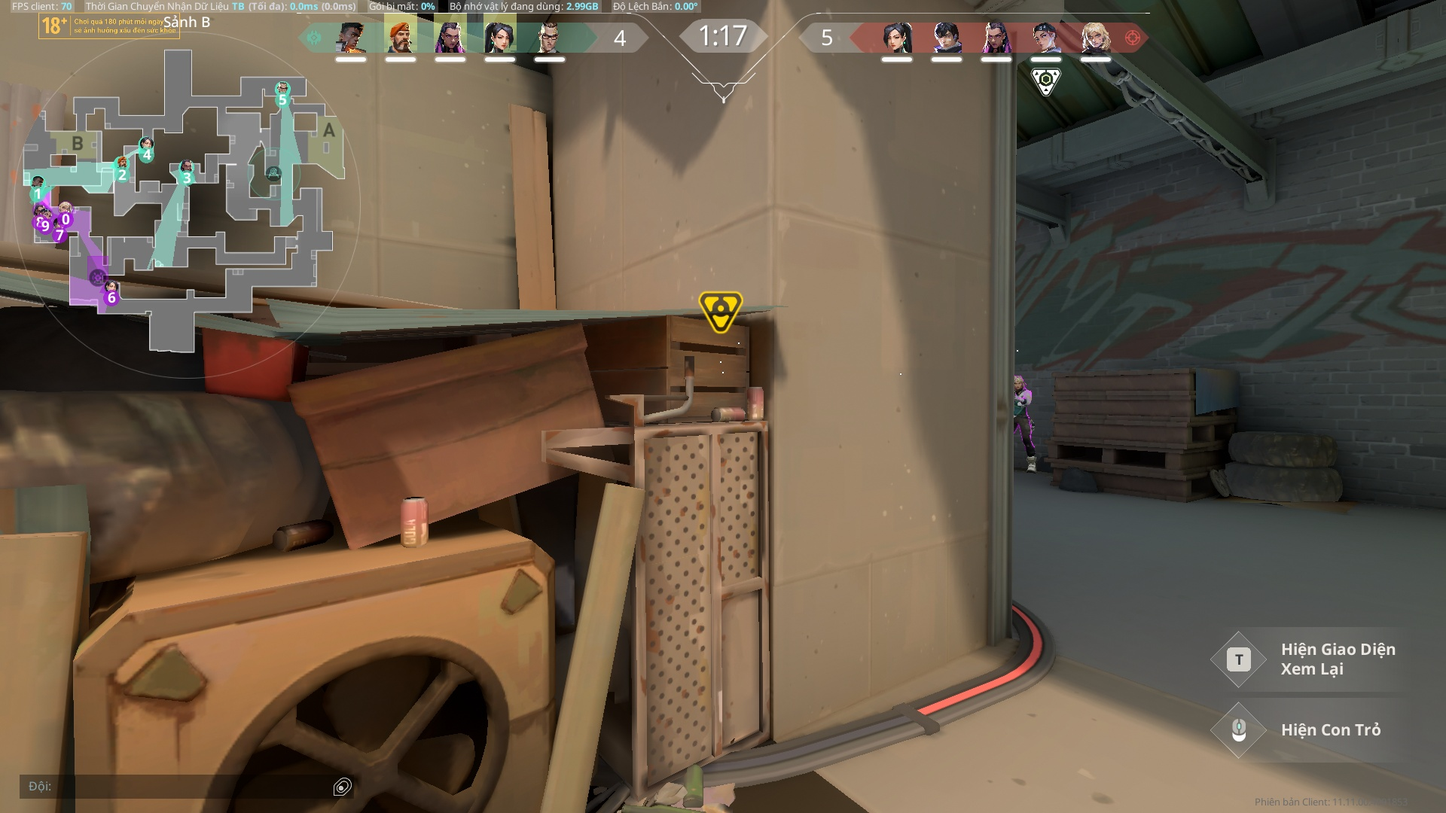body: (1014, 388, 1030, 416)
head: (1014, 374, 1025, 389)
